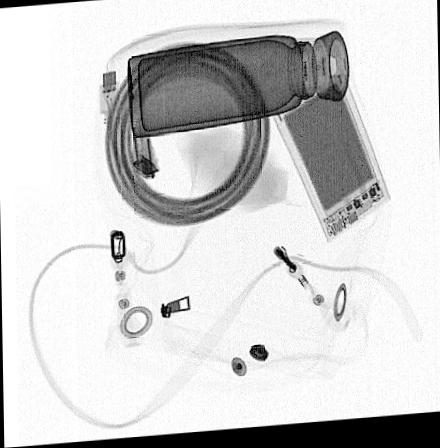Powerbank: (268, 73, 391, 249)
